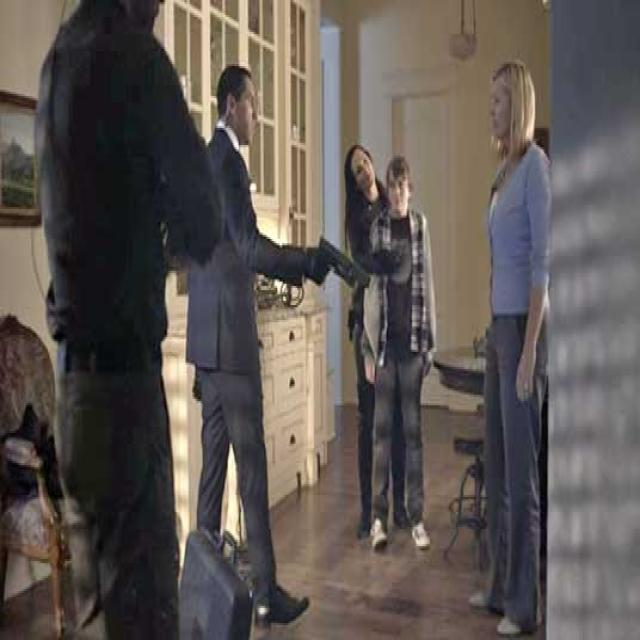intrusion detected: (29, 3, 220, 640), (188, 63, 332, 640), (477, 59, 555, 640), (345, 148, 438, 555)
